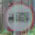Heavy Vehicles: (3, 1, 34, 33)
